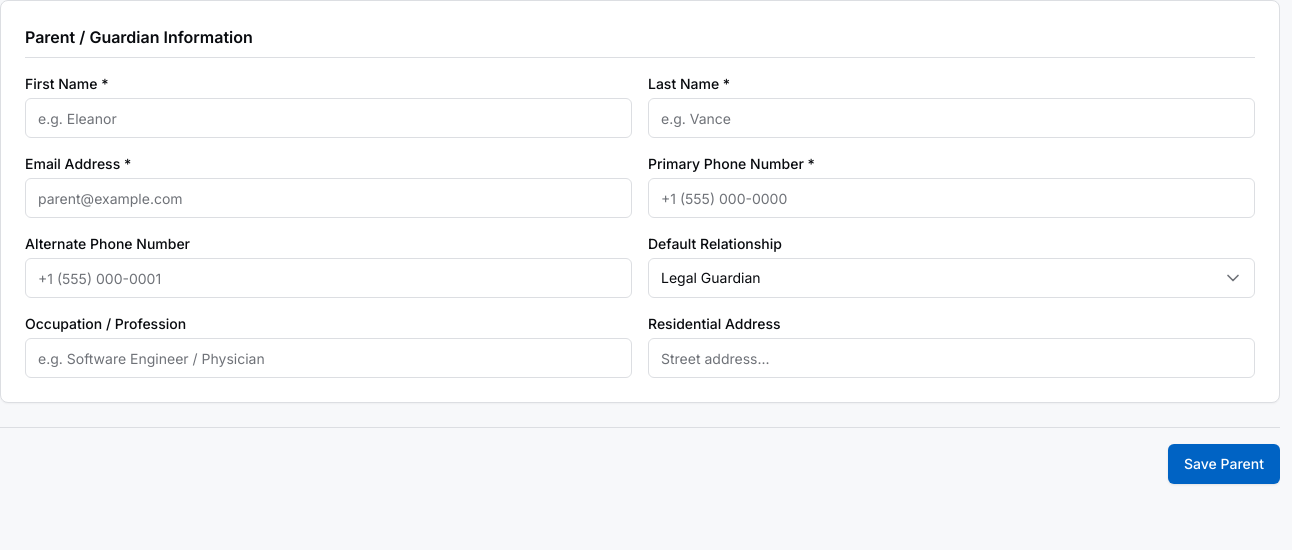
ParentForm › should validate required fields on submit
What coordinates should you click on to do the following:
click the button "Save Parent"
I would click on:
 (1224, 464)
Its box is x1=1168 y1=444 x2=1280 y2=484.
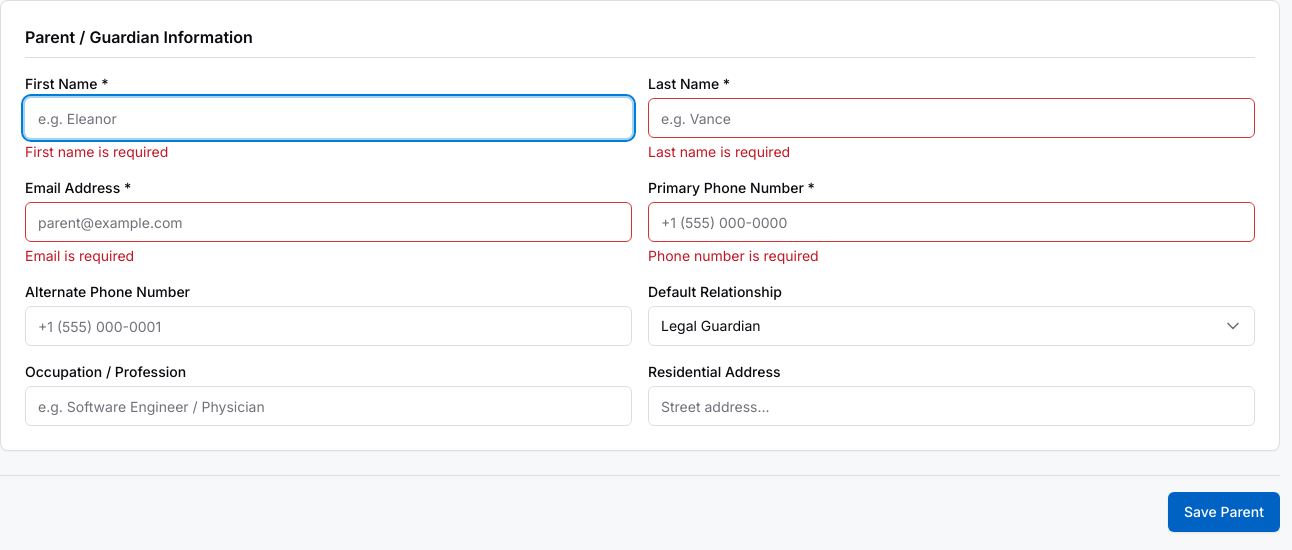
expect the text "First name is required" is shown: met, box x1=25 y1=143 x2=168 y2=160
expect the text "Last name is required" is shown: met, box x1=648 y1=143 x2=790 y2=160
expect the text "Email is required" is shown: met, box x1=25 y1=247 x2=134 y2=264
